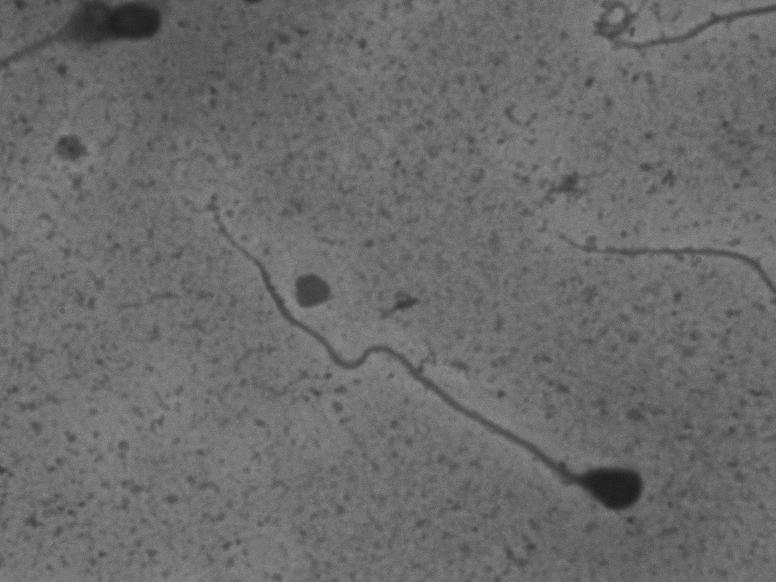Abnormal: (189, 180, 650, 528)
